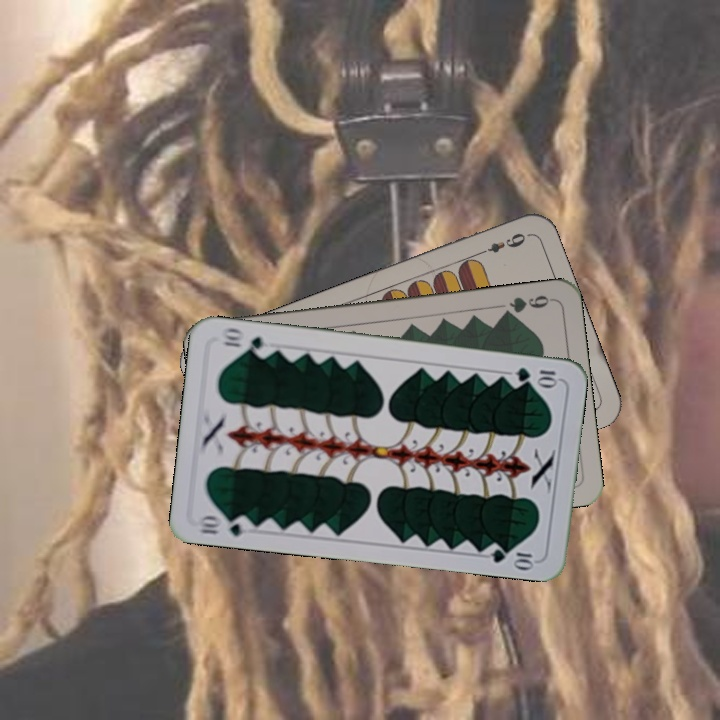E9: (474, 228, 529, 258)
G10: (194, 511, 254, 539), (512, 363, 561, 387)
G9: (497, 291, 555, 320)
